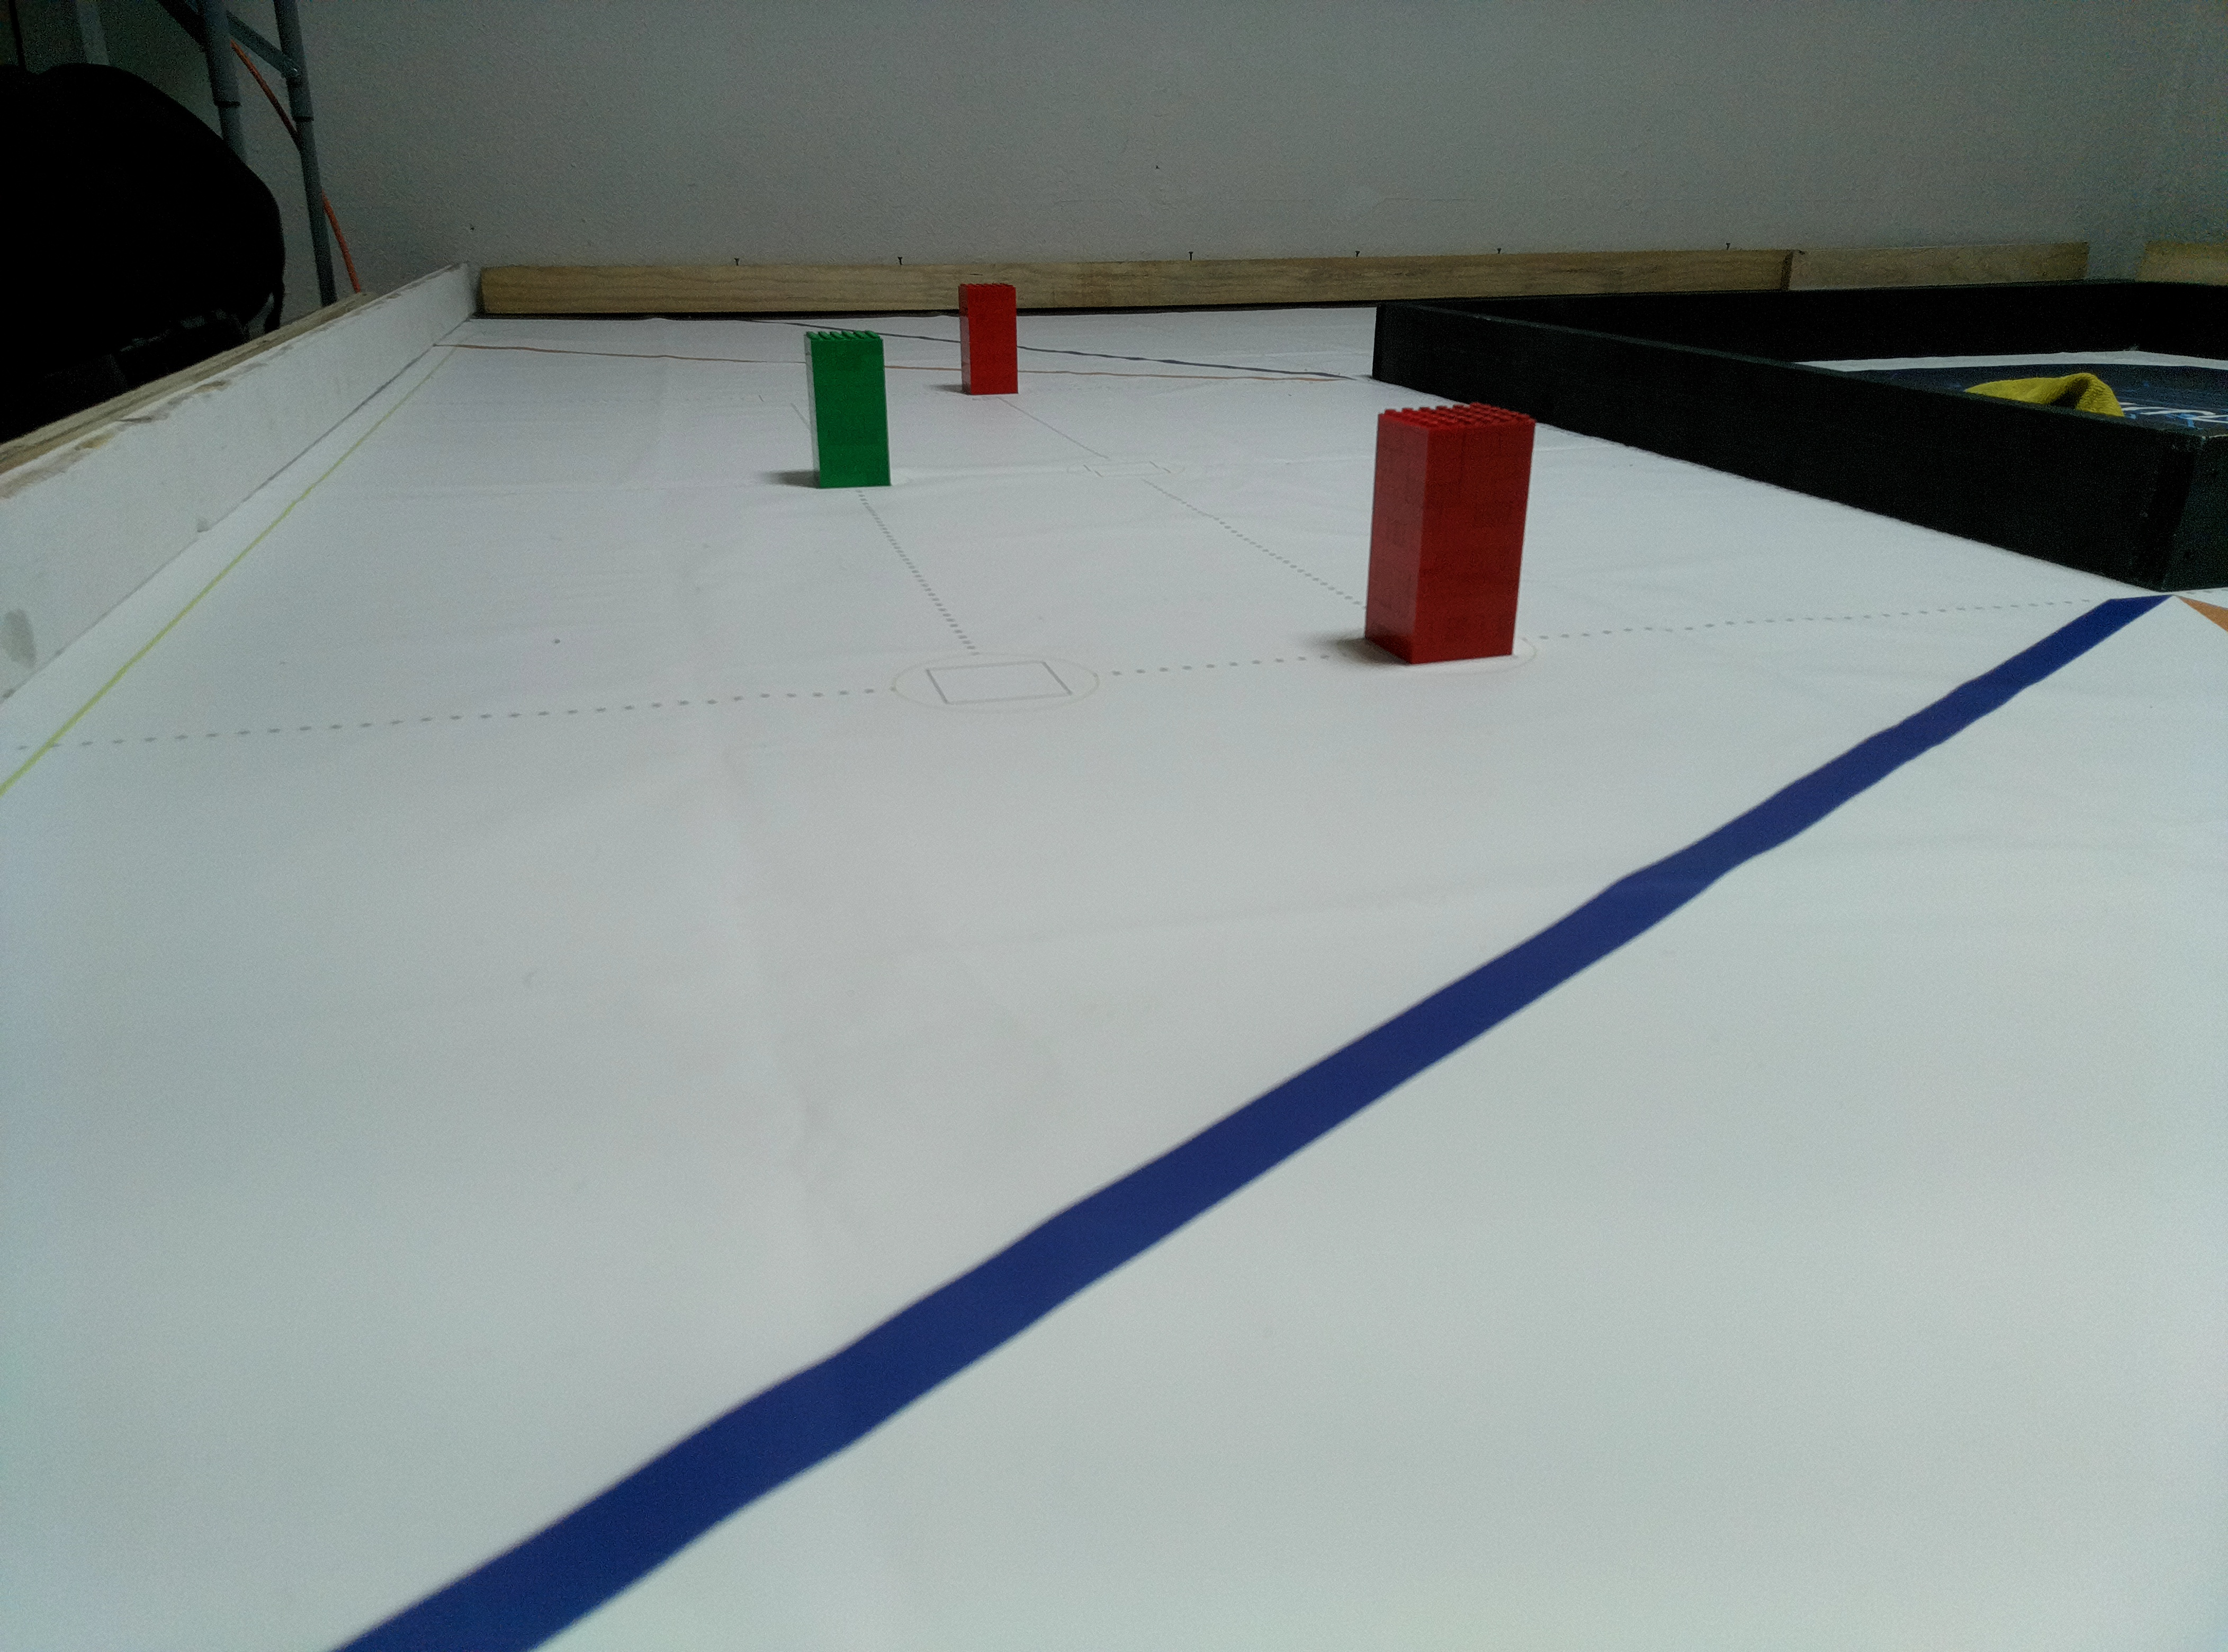greenbox: (798, 328, 895, 488)
redbox: (1362, 401, 1539, 668), (956, 281, 1022, 397)
